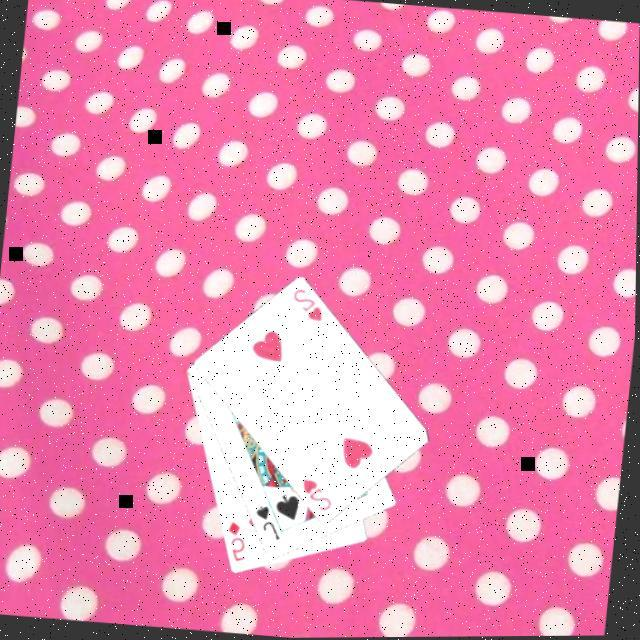2H: (289, 283, 330, 324), (298, 473, 339, 512)
5D: (223, 515, 255, 563)
JS: (252, 499, 288, 542)
